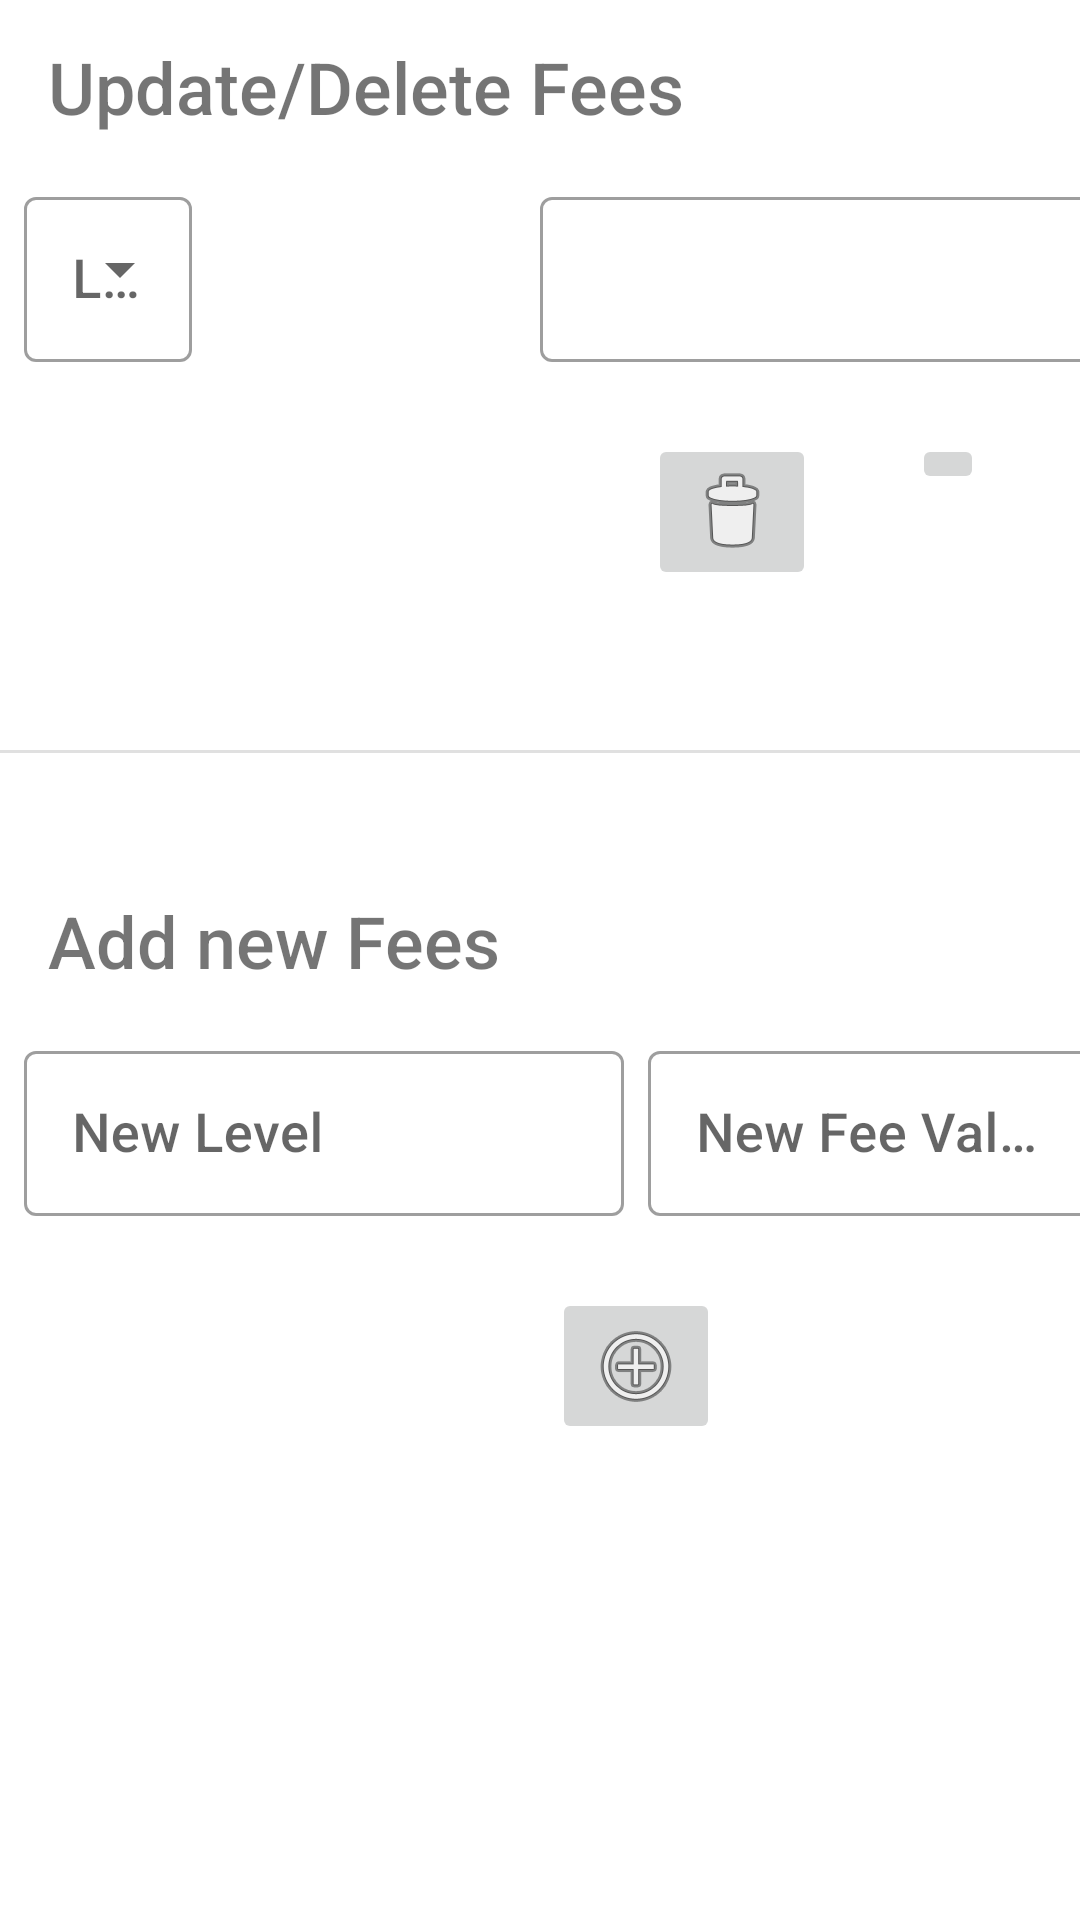

Named icons in this screenshot (1080x1920) and their centers, (x,y):
add: (636,1366)
delete: (732,512)
